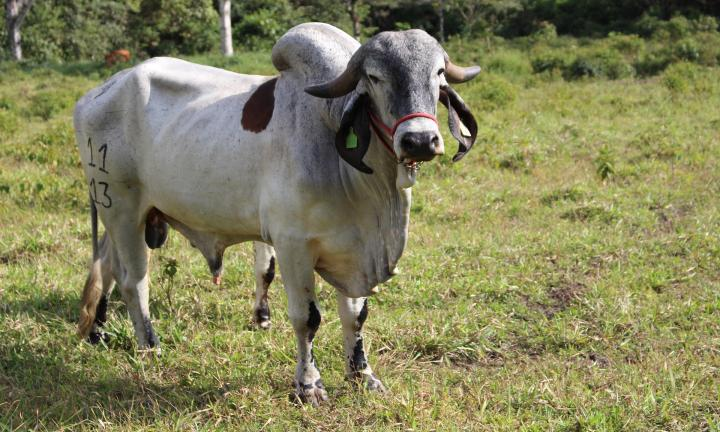Brahman: (74, 23, 480, 405)
